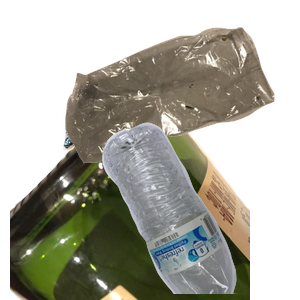glass: (10, 120, 250, 300)
metal: (61, 54, 225, 202)
plastic: (100, 120, 300, 300)
trash: (63, 24, 300, 179)
